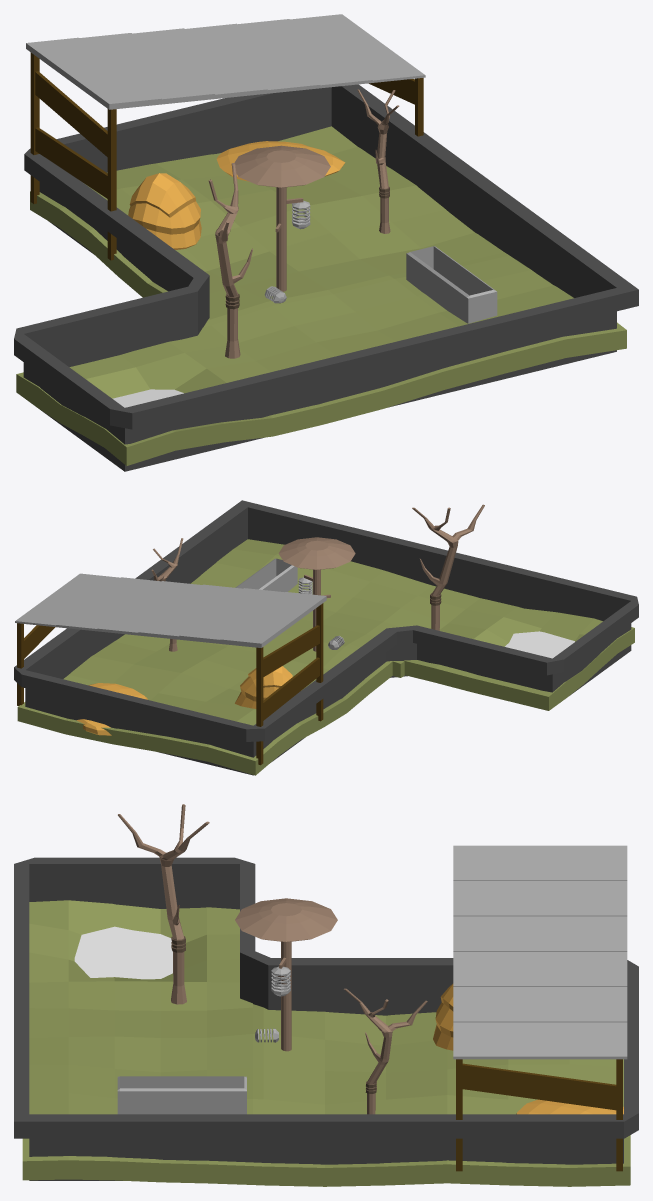
Rendered from Giraffe_Level_1.fbx.
3 renders of one model, top to bottom at view 1: azimuth 30°, elevation 25°; view 2: azimuth 150°, elevation 25°; view 3: azimuth 270°, elevation 25°, orthographic. The views are drawn at different scales.
Visible parts, largest first — view 1: Grass grass grass.005; view 2: Grass grass grass.005; view 3: Grass grass grass.005.
Part boxes in pixels (x1,y1,x2,y2): Grass grass grass.005: (14, 14, 638, 471); Grass grass grass.005: (14, 500, 638, 775); Grass grass grass.005: (14, 804, 638, 1186).
Bounding box in the file's own units: 3586 × 1345 × 3586.
